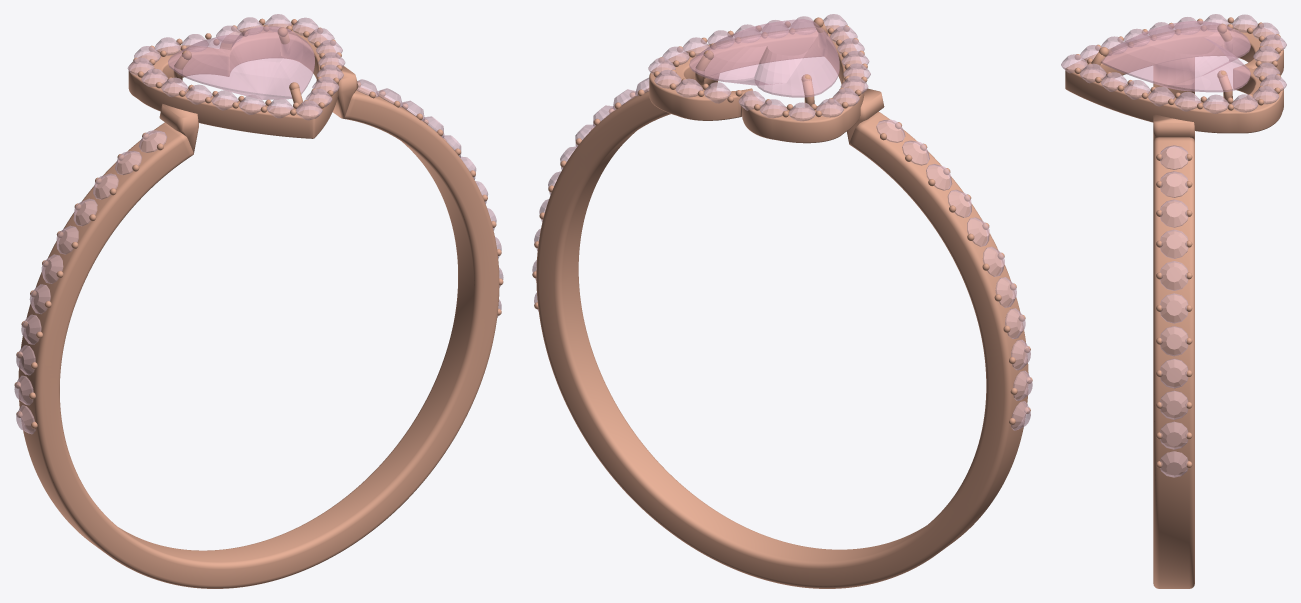
The model's file is J003-blockout-v01.glb.
3 views of the same model, side by side, from view 1: azimuth 30°, elevation 25°; view 2: azimuth 150°, elevation 25°; view 3: azimuth 270°, elevation 25° (orthographic). The views are drawn at different scales.
Visible parts, largest first — view 1: 01_Shank_ID16mm_width_EST, PENDING_03_OpenBack_Gallery, 02_Center_Heart_outline_EST_cut_PENDING, PENDING_04_ShoulderJoin_-1, PENDING_04_ShoulderJoin_1; view 2: 01_Shank_ID16mm_width_EST, PENDING_03_OpenBack_Gallery, 02_Center_Heart_outline_EST_cut_PENDING, PENDING_04_ShoulderJoin_-1; view 3: 01_Shank_ID16mm_width_EST, PENDING_03_OpenBack_Gallery, 02_Center_Heart_outline_EST_cut_PENDING, PENDING_04_ShoulderJoin_-1, PENDING_04_ShoulderJoin_1, PENDING_ShoulderStone_1_07, PENDING_ShoulderStone_1_06, PENDING_ShoulderStone_1_05, PENDING_ShoulderStone_1_08, PENDING_ShoulderStone_1_04, PENDING_ShoulderStone_1_09, PENDING_ShoulderStone_1_03 (+19 smaller).
Part boxes in pixels (left/top/right/bottom): 01_Shank_ID16mm_width_EST: left=18, top=87, right=499, bottom=588; PENDING_03_OpenBack_Gallery: left=128, top=23, right=338, bottom=138; 02_Center_Heart_outline_EST_cut_PENDING: left=168, top=26, right=314, bottom=99; PENDING_04_ShoulderJoin_-1: left=159, top=103, right=198, bottom=153; PENDING_04_ShoulderJoin_1: left=333, top=63, right=358, bottom=118; 01_Shank_ID16mm_width_EST: left=536, top=88, right=1028, bottom=588; PENDING_03_OpenBack_Gallery: left=649, top=25, right=864, bottom=143; 02_Center_Heart_outline_EST_cut_PENDING: left=689, top=19, right=839, bottom=97; PENDING_04_ShoulderJoin_-1: left=847, top=88, right=884, bottom=143; 01_Shank_ID16mm_width_EST: left=1153, top=81, right=1194, bottom=588; PENDING_03_OpenBack_Gallery: left=1065, top=24, right=1283, bottom=133; 02_Center_Heart_outline_EST_cut_PENDING: left=1101, top=21, right=1250, bottom=92; PENDING_04_ShoulderJoin_-1: left=1153, top=57, right=1194, bottom=84; PENDING_04_ShoulderJoin_1: left=1153, top=114, right=1194, bottom=140; PENDING_ShoulderStone_1_07: left=1160, top=326, right=1188, bottom=356; PENDING_ShoulderStone_1_06: left=1160, top=293, right=1188, bottom=323; PENDING_ShoulderStone_1_05: left=1160, top=261, right=1188, bottom=290; PENDING_ShoulderStone_1_08: left=1160, top=358, right=1188, bottom=388; PENDING_ShoulderStone_1_04: left=1160, top=229, right=1188, bottom=258; PENDING_ShoulderStone_1_09: left=1160, top=390, right=1188, bottom=419; PENDING_ShoulderStone_1_03: left=1160, top=199, right=1188, bottom=227.
Bounding box in the file's own units: 0.0185 × 0.0195 × 0.00758.
